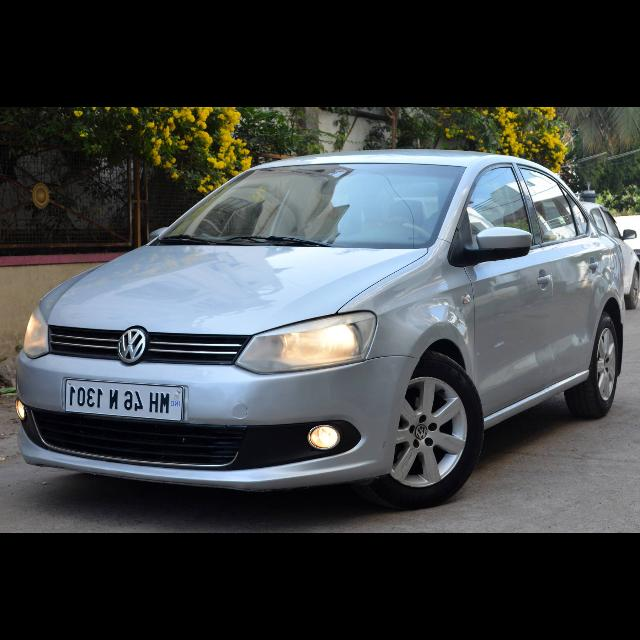number-plate: (60, 379, 183, 422)
vehicles: (10, 155, 622, 503), (566, 202, 639, 308)
